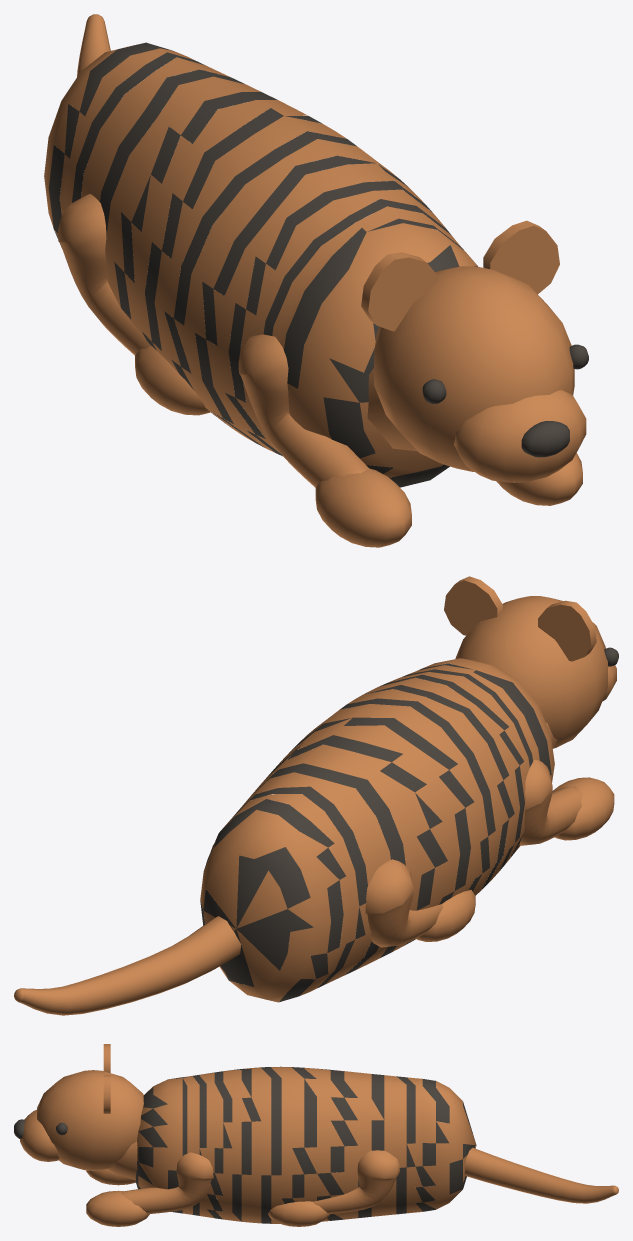
The model's file is rainforest-and-jungle-fauna-tiger-lying-bf1759df__21673.glb.
The picture shows the model from 3 angles, top to bottom: view 1: azimuth 30°, elevation 25°; view 2: azimuth 150°, elevation 25°; view 3: azimuth 270°, elevation 25°; orthographic projection. The views are drawn at different scales.
Parts seen in each view (by area): view 1: tiger-lying; view 2: tiger-lying; view 3: tiger-lying.
Part boxes in pixels (bbox=[...]): tiger-lying: bbox=[44, 14, 588, 547]; tiger-lying: bbox=[14, 576, 618, 1015]; tiger-lying: bbox=[14, 1044, 618, 1226].
Size of the model in its own units: 0.736 by 0.8003 by 2.8.
